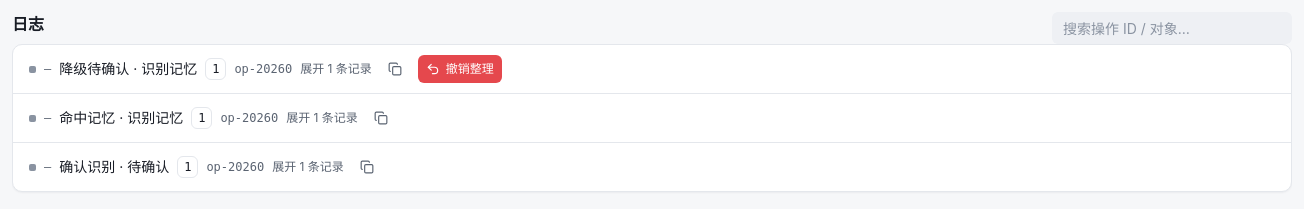
Test: LogsPage(分组契约冒烟,mock fixtures 无时间字段) › 搜索按操作 ID 过滤
The width and height of the screenshot is (1304, 209).
Expected: the text "降级待确认 · 识别记忆" is shown, [59,59,197,79]
In the search field with placeholder "搜索操作 ID / 对象…": (1172, 28) [1052,12,1292,44], type "op-20260905-0002"
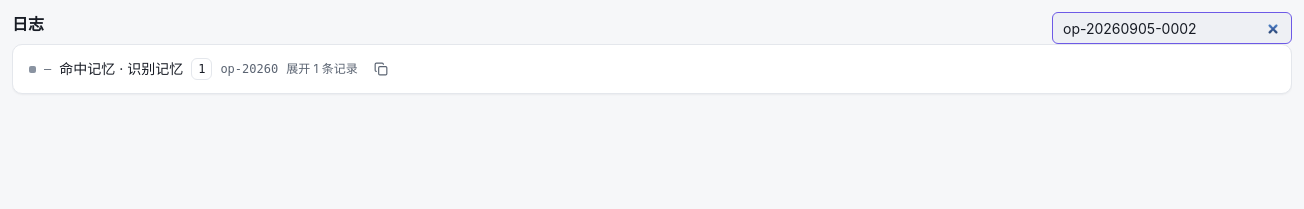
Expected: the text "命中记忆 · 识别记忆" is shown, [59,59,183,79]
Expected: the button "降级待确认 · 识别记忆" is gone
